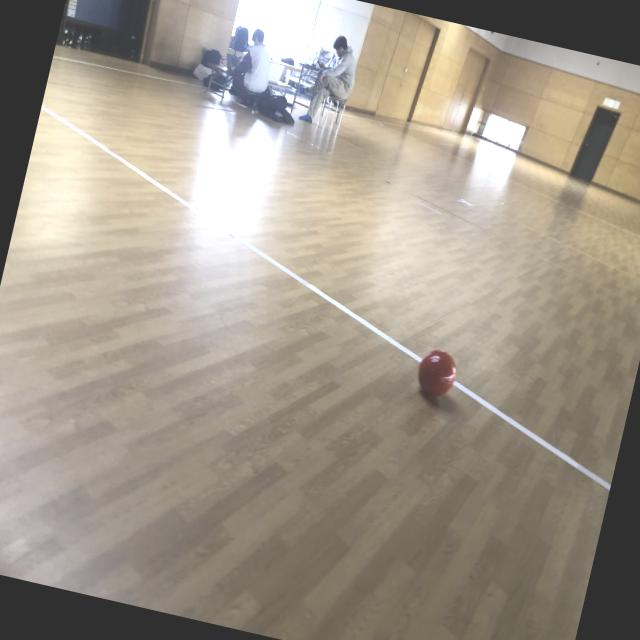red_ball: (414, 346, 461, 404)
